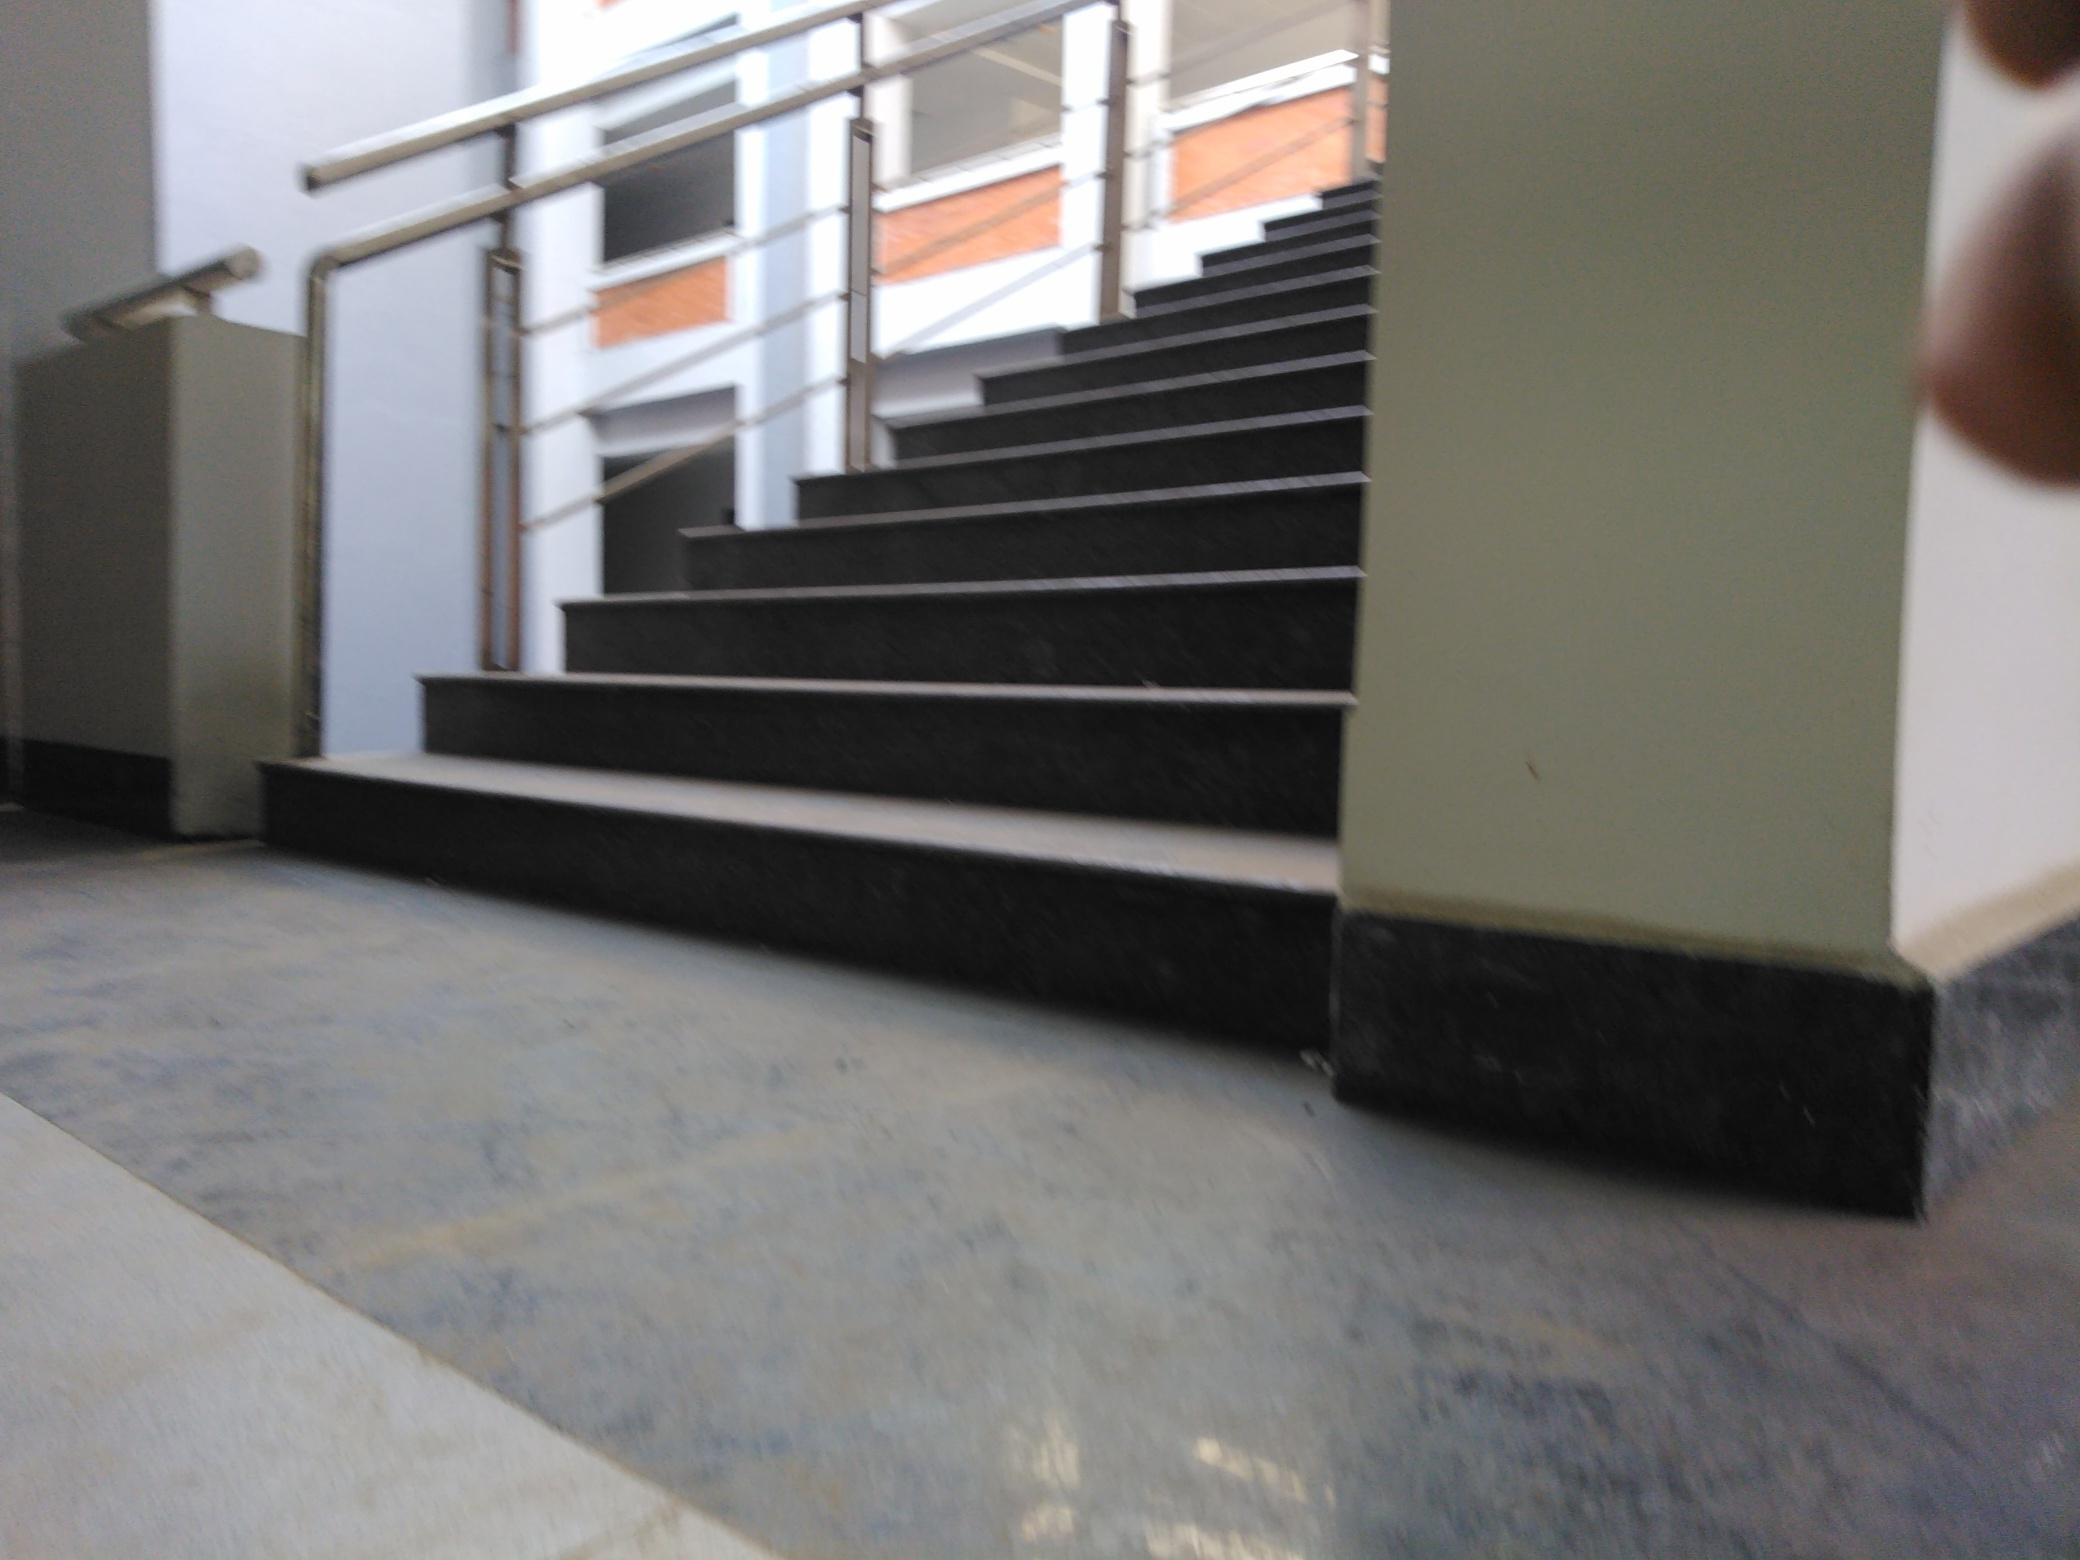stairs_up: (274, 179, 1376, 1044)
